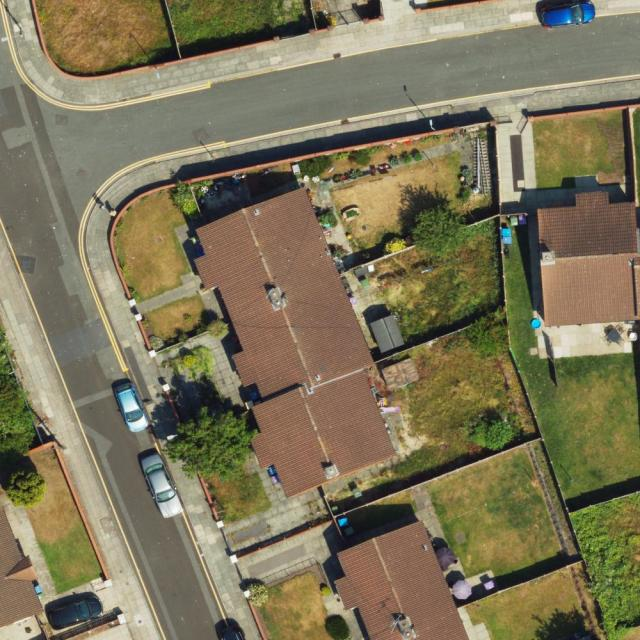roof: (193, 183, 400, 501), (334, 520, 470, 640), (538, 194, 640, 329), (1, 508, 45, 629)
